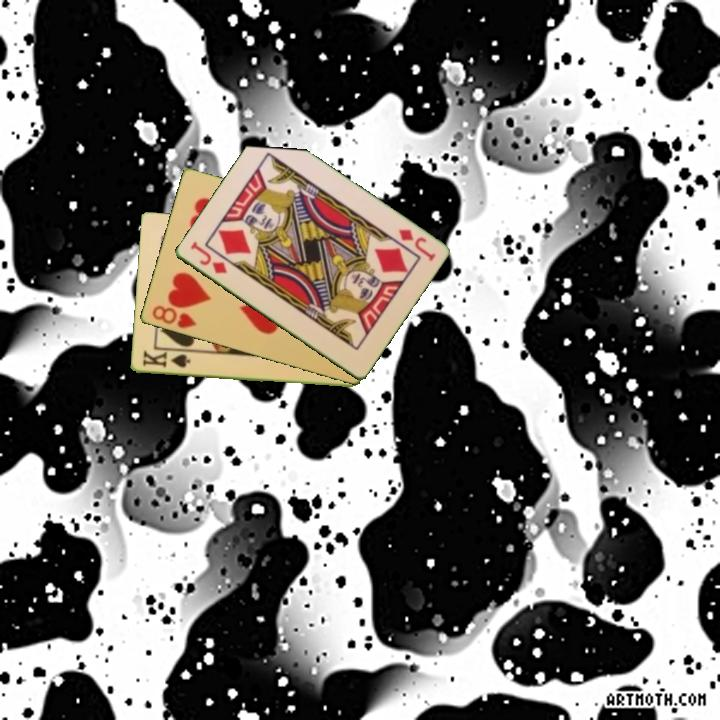8h: (148, 302, 199, 332)
Jd: (186, 238, 230, 277), (395, 225, 438, 264)
Ks: (139, 347, 193, 371)
